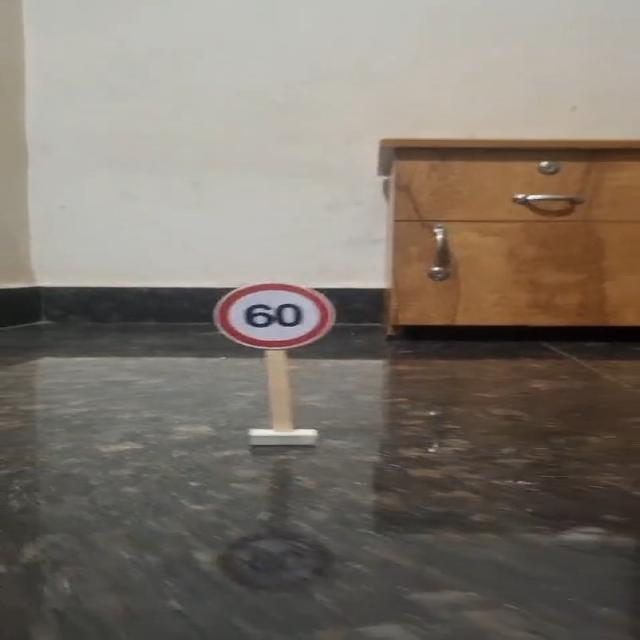Speed60: (210, 280, 338, 351)
